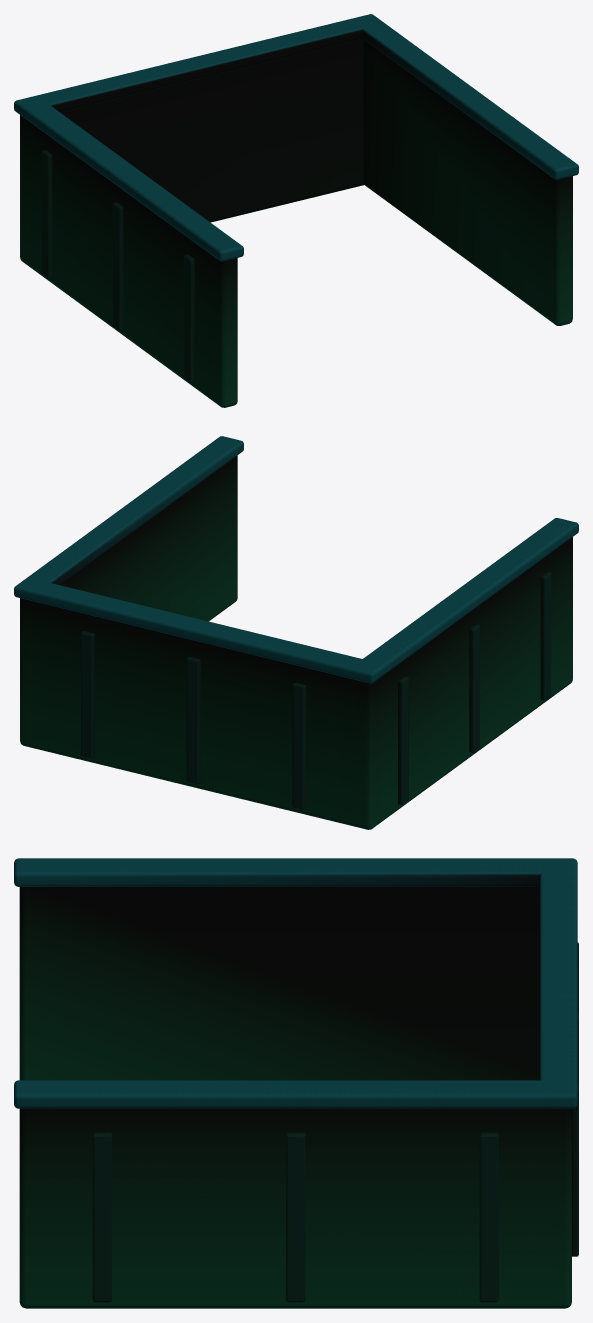
Rendered from bed_high.glb.
The picture shows the model from 3 angles, top to bottom: view 1: azimuth 30°, elevation 25°; view 2: azimuth 150°, elevation 25°; view 3: azimuth 270°, elevation 25°; orthographic projection. The views are drawn at different scales.
Visible parts, largest first — view 1: bed_high; view 2: bed_high; view 3: bed_high.
Part boxes in pixels (<box>): bed_high: <box>14,14,578,407</box>; bed_high: <box>14,436,578,829</box>; bed_high: <box>14,858,578,1308</box>.
Bounding box in the file's own units: 1.02 × 0.435 × 1.02.
1 material, 1 textured.
